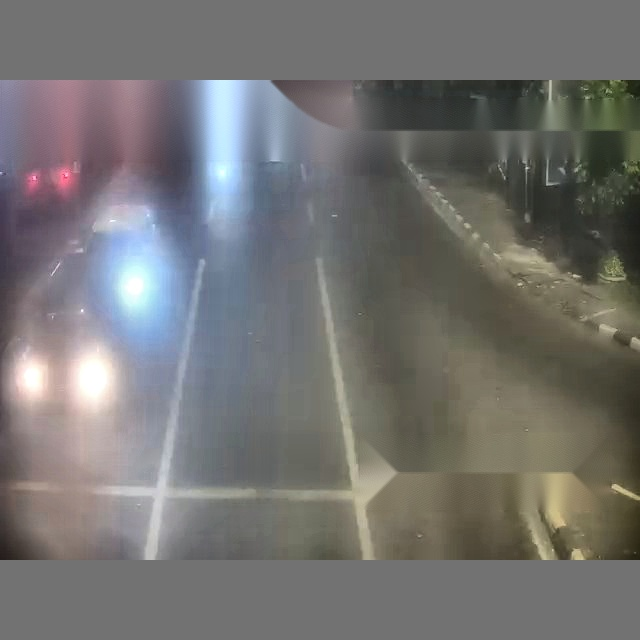Truk: (186, 104, 639, 557)
